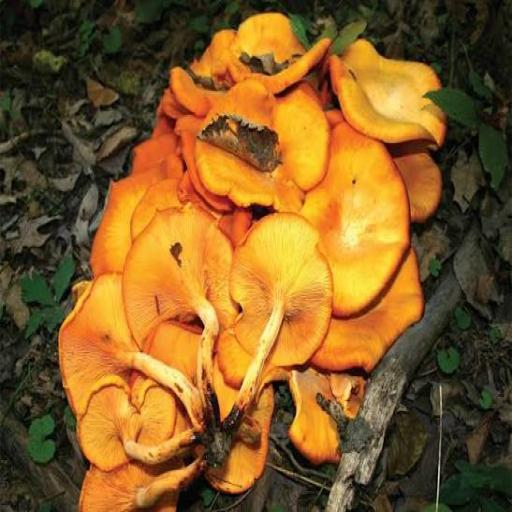Jack O Lantern Mushroom: (47, 268, 214, 428), (298, 112, 419, 309), (218, 206, 334, 407), (326, 26, 462, 157), (120, 211, 230, 344), (62, 369, 204, 470), (195, 11, 335, 99), (70, 444, 210, 512)
